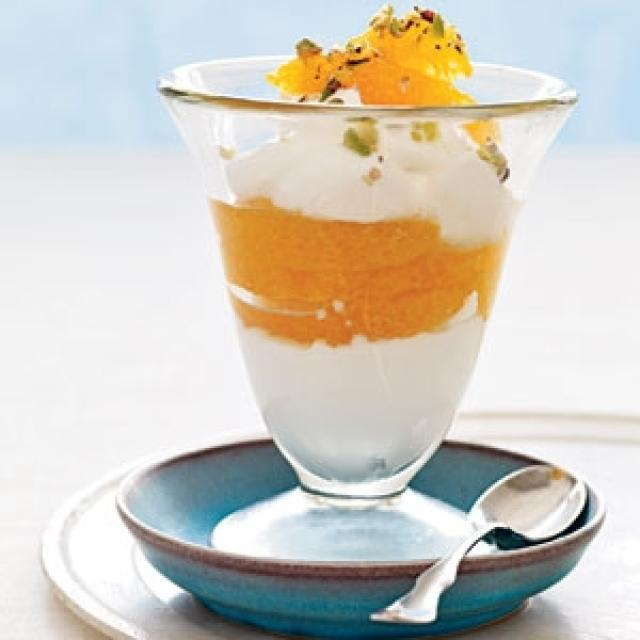蛋糕甜品: (98, 21, 580, 540)
